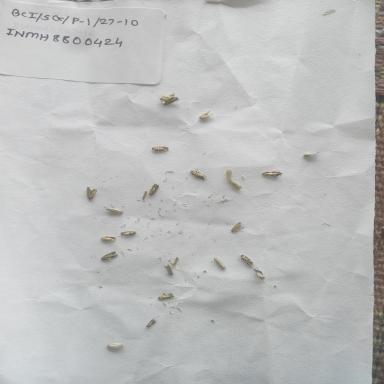pbw: (148, 142, 178, 155), (82, 186, 102, 203), (186, 167, 210, 181), (259, 168, 285, 180), (211, 255, 230, 271), (237, 252, 256, 268), (250, 266, 268, 282), (160, 96, 184, 108), (226, 178, 246, 192), (102, 206, 127, 217), (98, 249, 119, 262), (228, 219, 246, 234), (146, 182, 164, 197), (299, 148, 321, 160), (194, 109, 218, 120), (106, 340, 126, 352), (156, 290, 176, 302), (119, 228, 140, 238), (98, 233, 117, 244), (162, 263, 175, 278), (142, 318, 161, 328), (169, 254, 182, 268), (223, 167, 234, 182), (156, 92, 176, 99)
